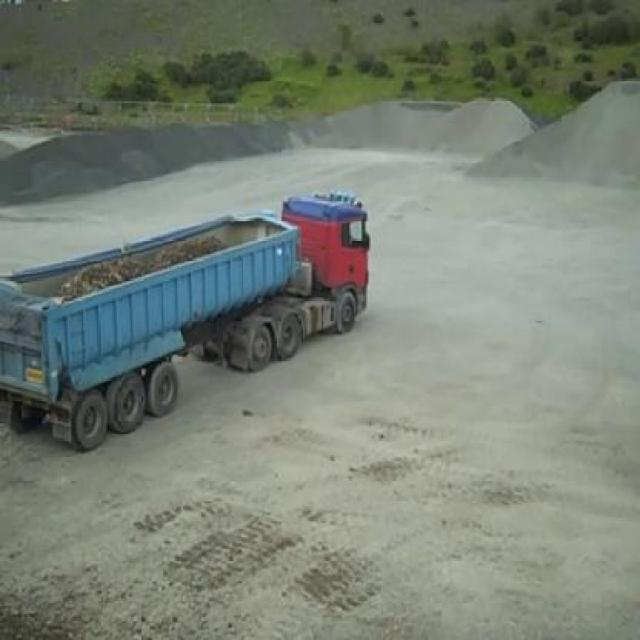Dump Truck: (0, 188, 368, 450)
